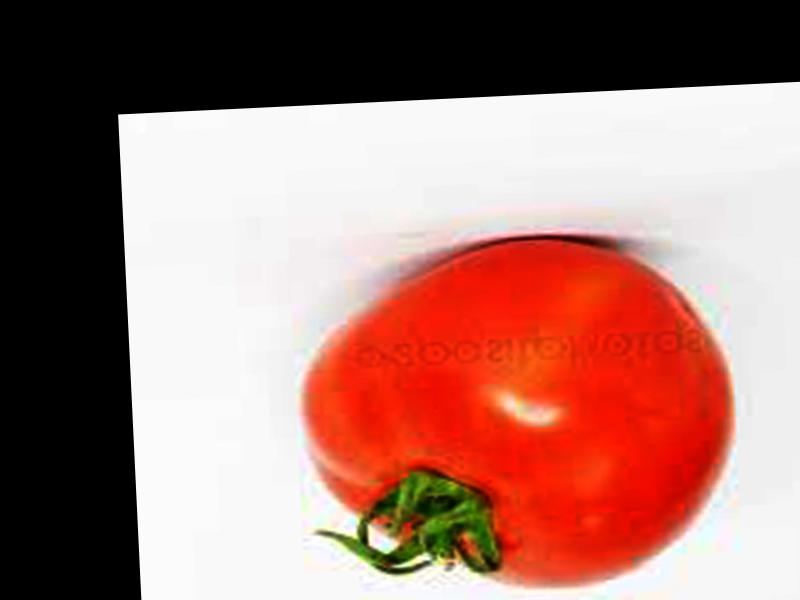Tomato: (296, 230, 740, 600)
